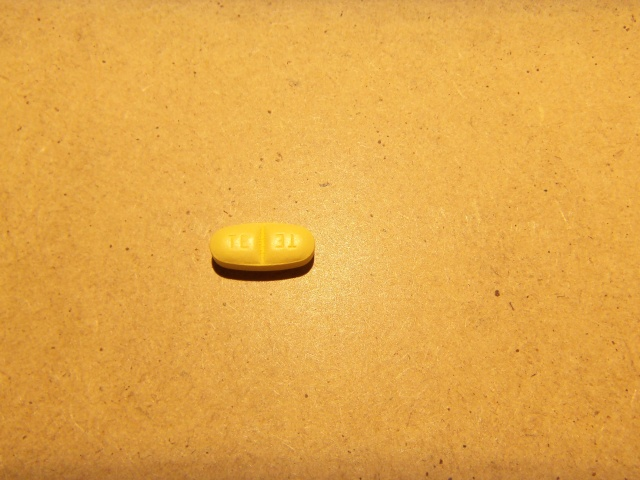E: (239, 233, 252, 252), (273, 231, 286, 249)
T: (286, 232, 298, 251), (226, 231, 237, 251)
|: (255, 223, 272, 266)
